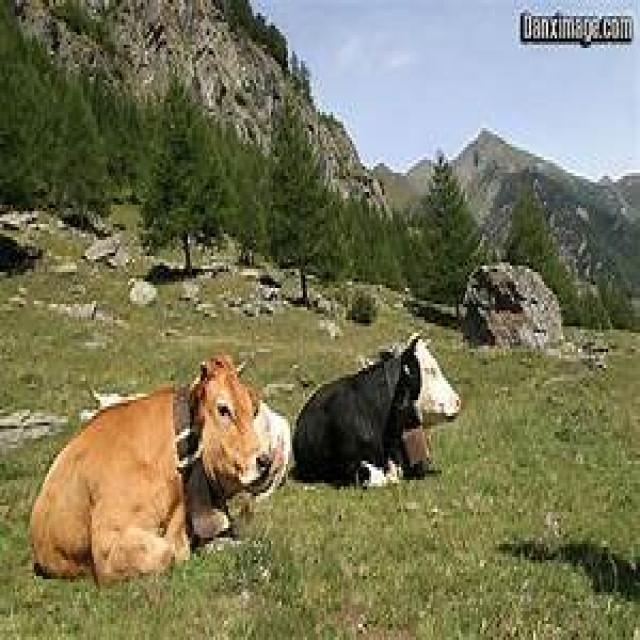cow: (28, 355, 292, 592), (290, 339, 463, 490)
